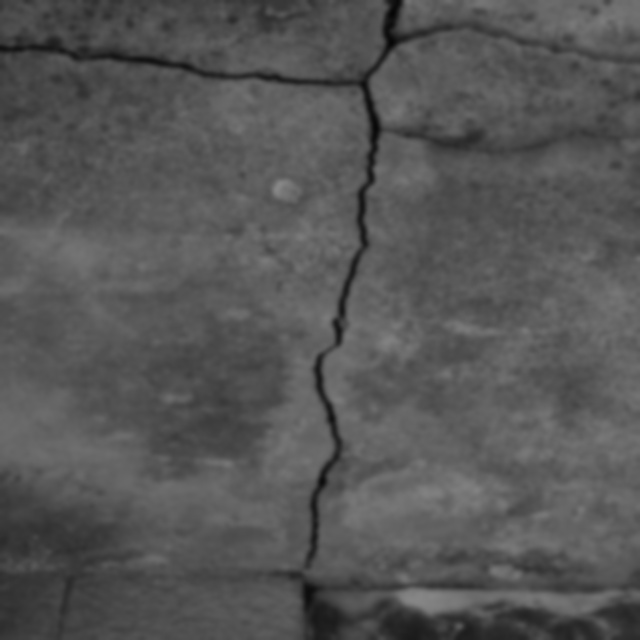SurfaceCrack: (238, 0, 410, 638), (360, 0, 640, 188)
